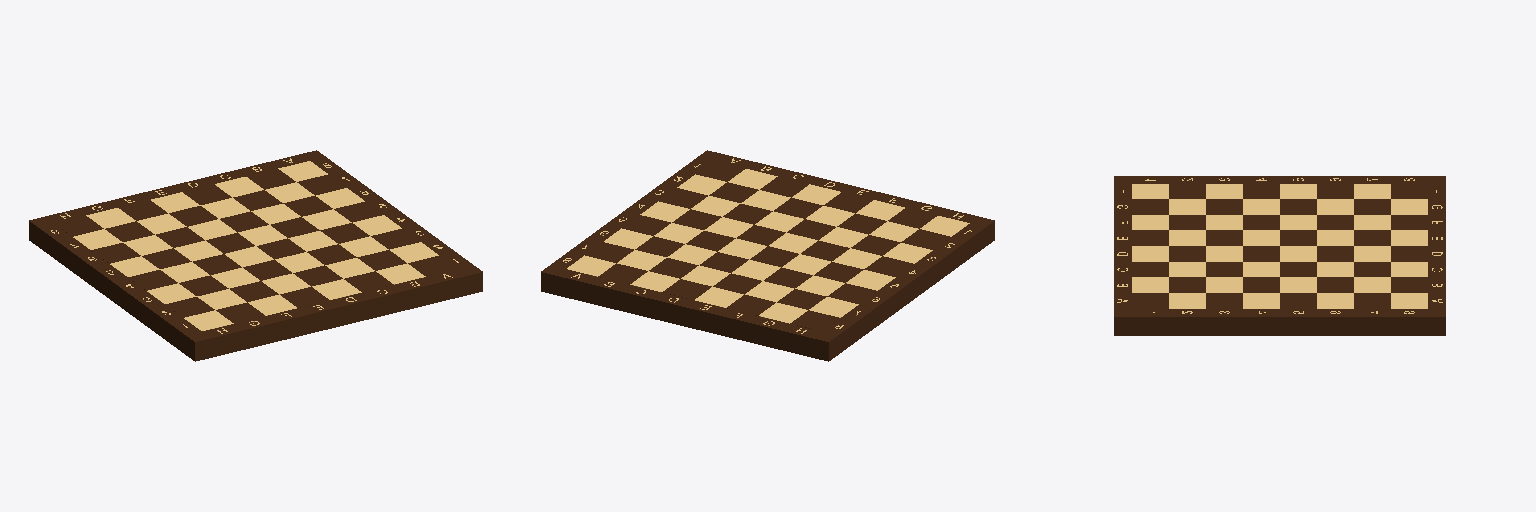
Rendered from chess_board.obj.
3 views of the same model, side by side, from view 1: azimuth 30°, elevation 25°; view 2: azimuth 150°, elevation 25°; view 3: azimuth 270°, elevation 25° (orthographic).
Visible parts, largest first — view 1: Body54, Body53, Body1; view 2: Body53, Body54, Body1; view 3: Body53, Body54, Body1.
Part boxes in pixels (x1,y1,x2,y2): Body54: (73, 161, 438, 330); Body53: (54, 169, 456, 323); Body1: (29, 150, 482, 361); Body53: (585, 161, 950, 330); Body54: (567, 169, 969, 323); Body1: (541, 150, 994, 361); Body53: (1132, 184, 1427, 308); Body54: (1132, 184, 1427, 308); Body1: (1114, 176, 1445, 335).
Bounding box in the file's own units: 43.2 × 2.83 × 43.2.